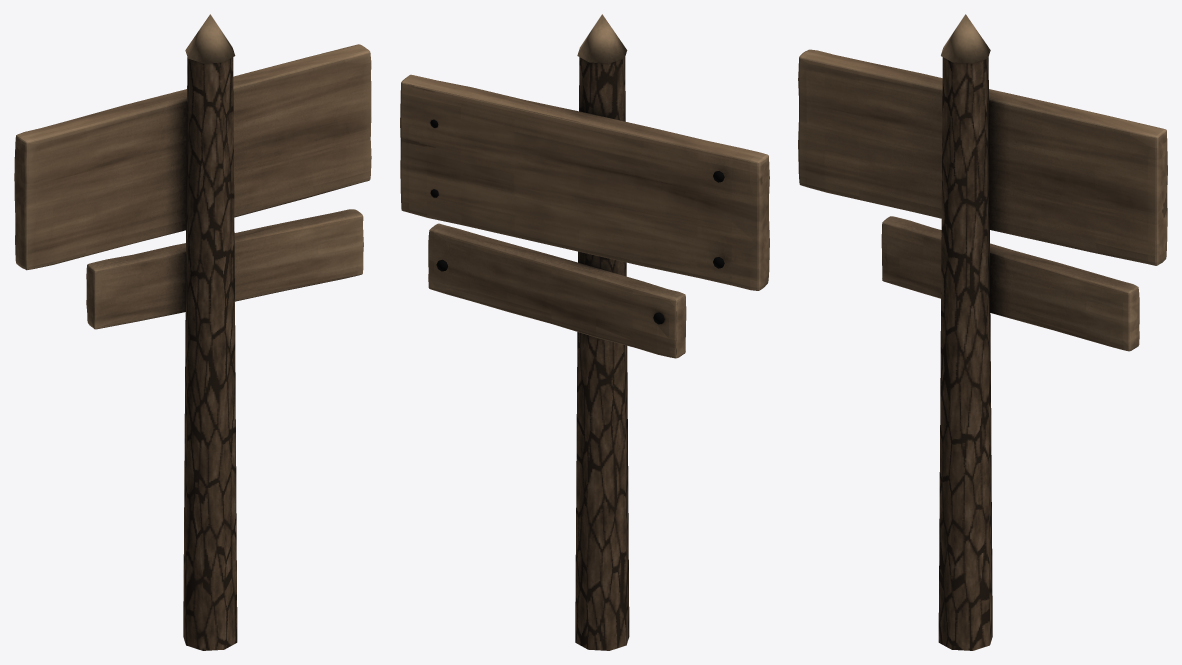
Rendered from cenario_placa.glb.
3 renders of one model, left to right at view 1: azimuth 30°, elevation 25°; view 2: azimuth 150°, elevation 25°; view 3: azimuth 330°, elevation 25°, orthographic.
Parts seen in each view (by area): view 1: cenario_placa_tronco; view 2: cenario_placa_tronco; view 3: cenario_placa_tronco.
Part boxes in pixels (x1,y1,x2,y2): cenario_placa_tronco: (14,14,371,650); cenario_placa_tronco: (400,14,769,650); cenario_placa_tronco: (798,14,1167,650).
Size of the model in its own units: 0.9504 by 1.6 by 0.1892.
Materials: 1 (1 with a texture image).
